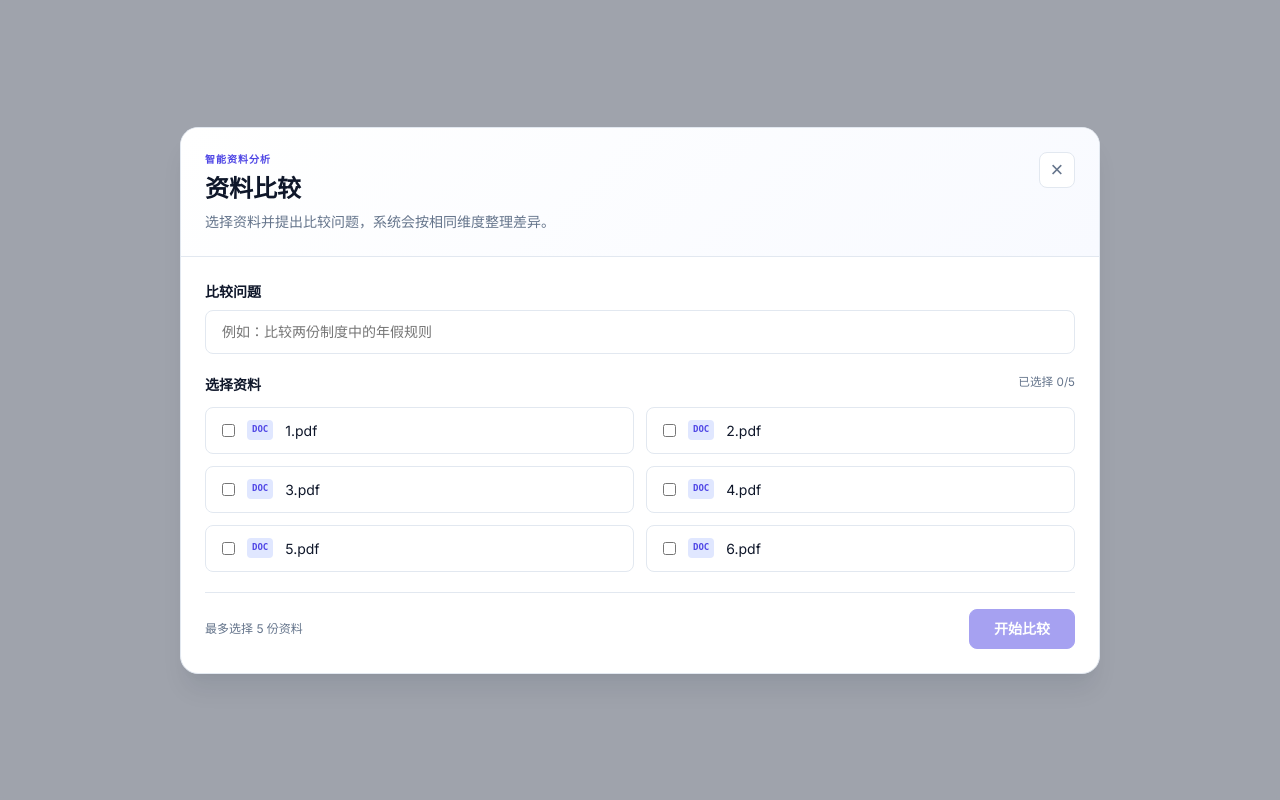
Test: DocumentCompareDialog › prevents selecting more than five documents
This screenshot has width=1280, height=800.
Click the checkbox labelled "DOC 1.pdf": (228, 430) [222,424,235,436]
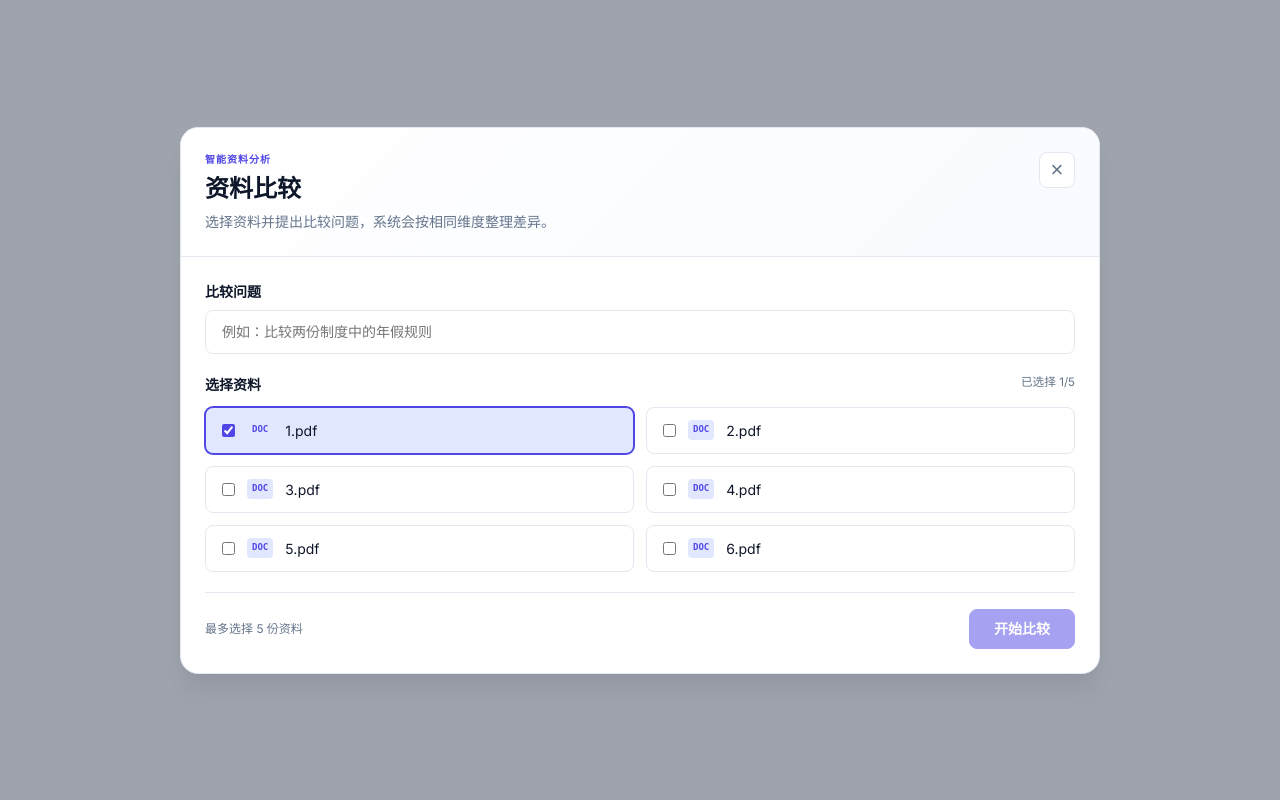
Click the checkbox labelled "DOC 2.pdf": (670, 430) [663,424,676,436]
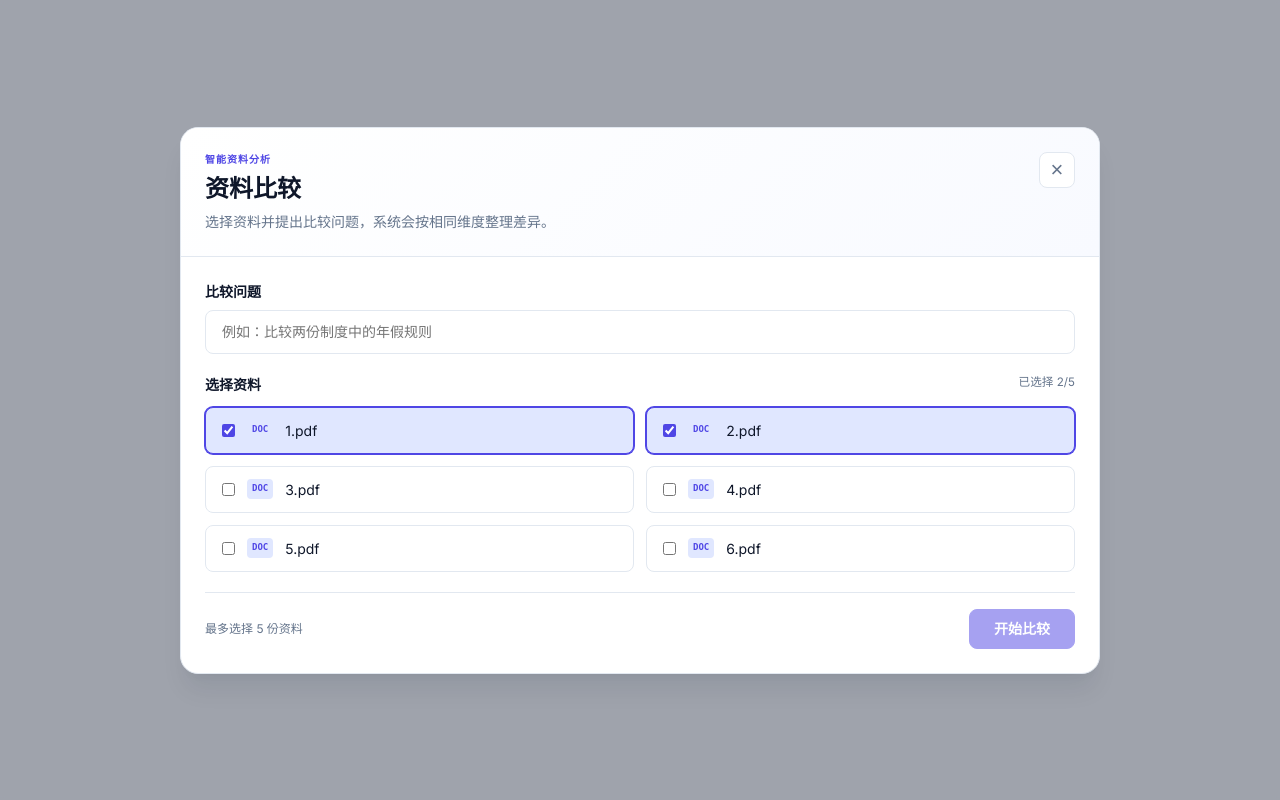
Click the checkbox labelled "DOC 3.pdf": (228, 489) [222,482,235,496]
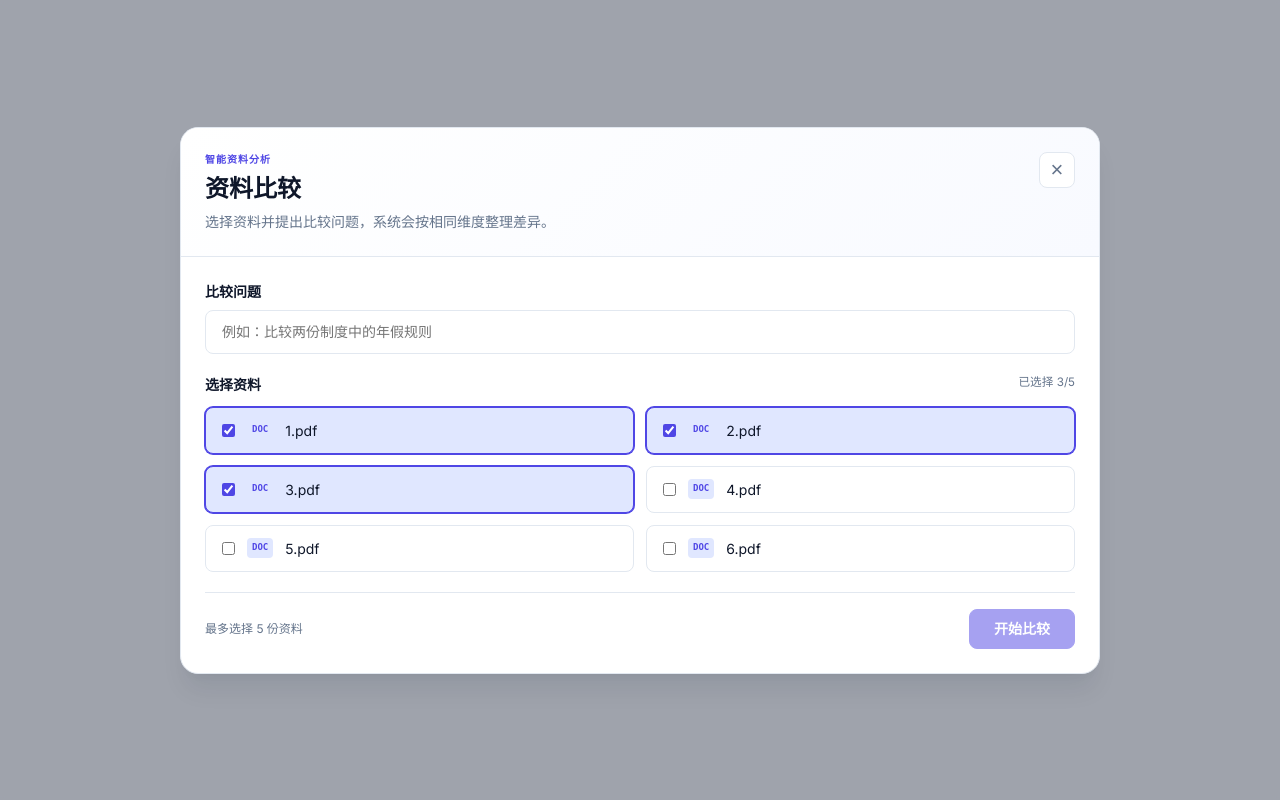
Click the checkbox labelled "DOC 4.pdf": (670, 489) [663,482,676,496]
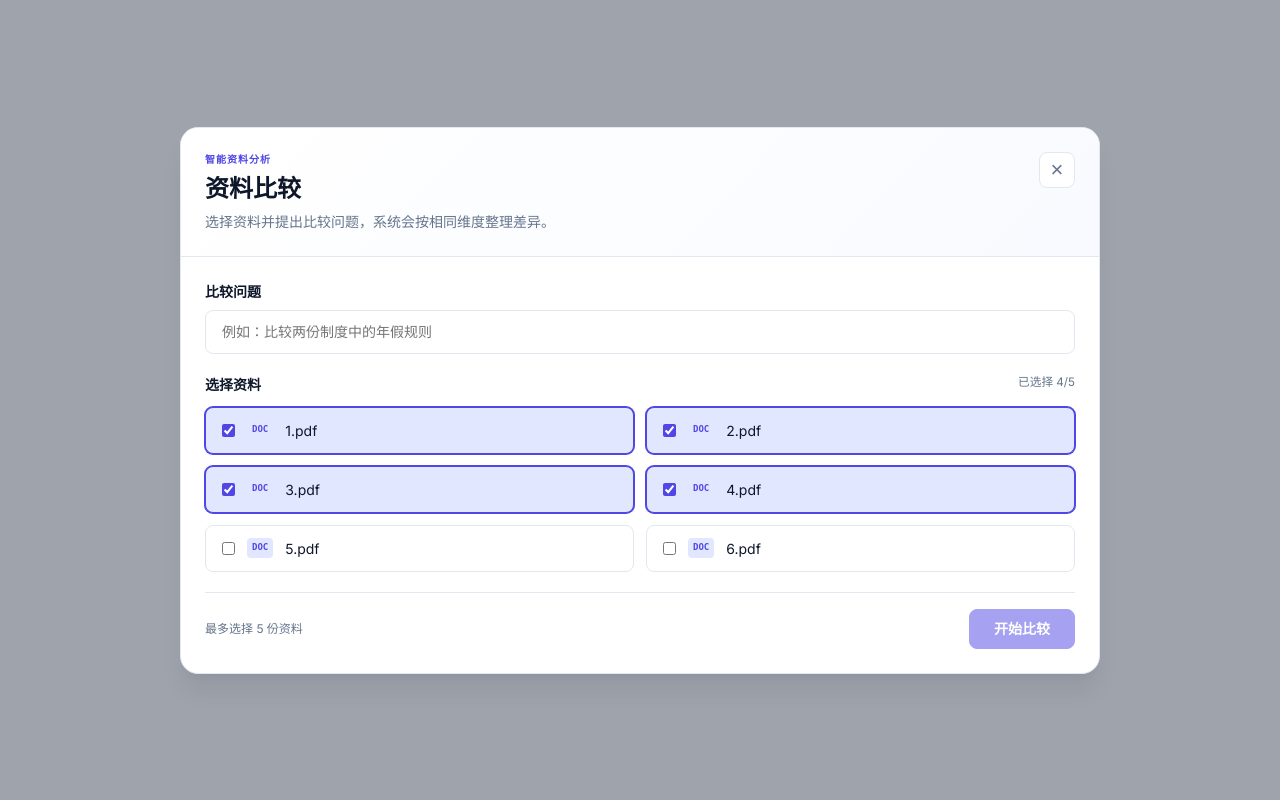
Click the checkbox labelled "DOC 5.pdf": (228, 548) [222,542,235,554]
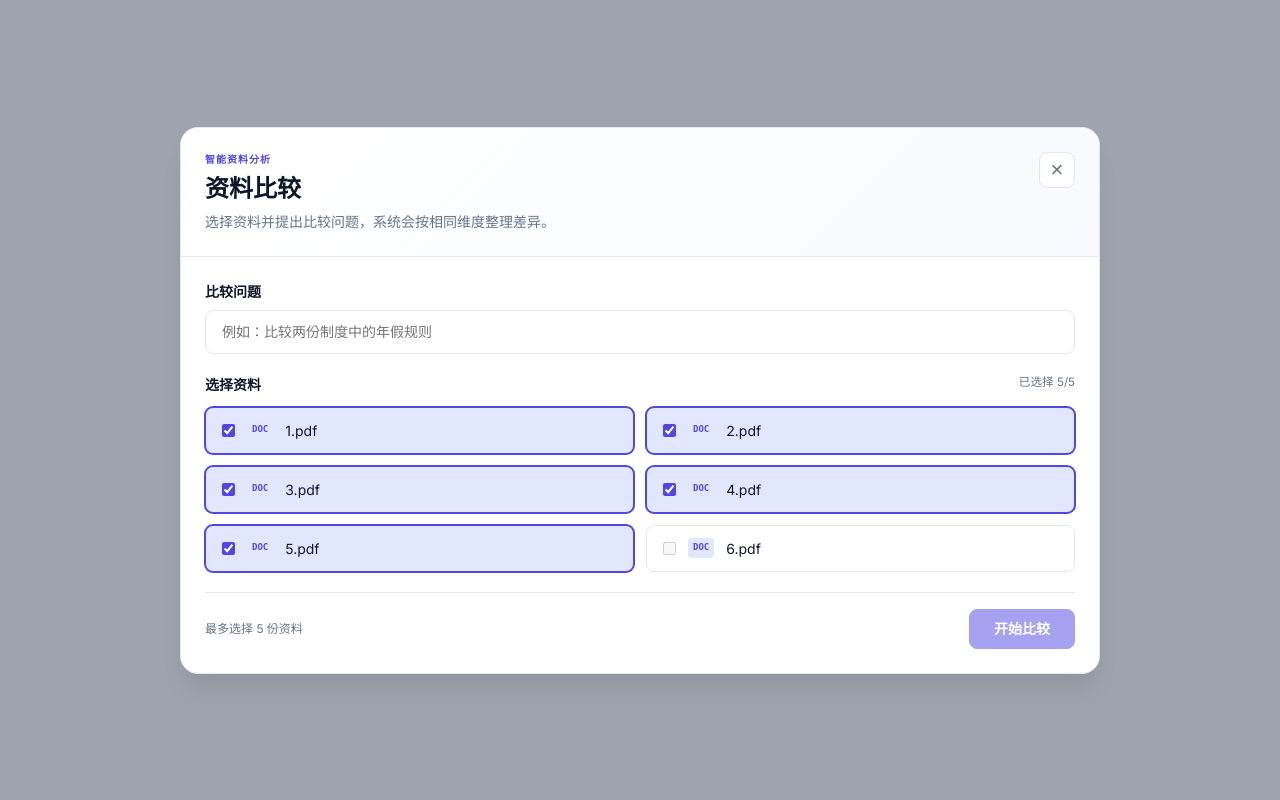
Expected: the checkbox labelled "DOC 6.pdf" is disabled, [663,542,676,554]
